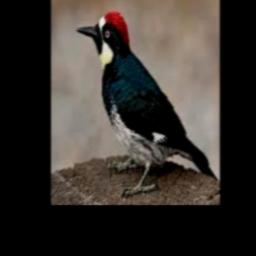Woodpecker: (76, 11, 218, 194)
